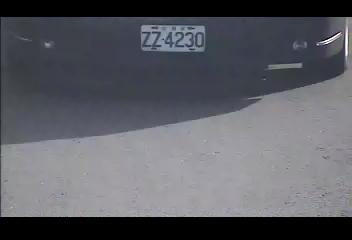plate: (139, 23, 207, 53)
